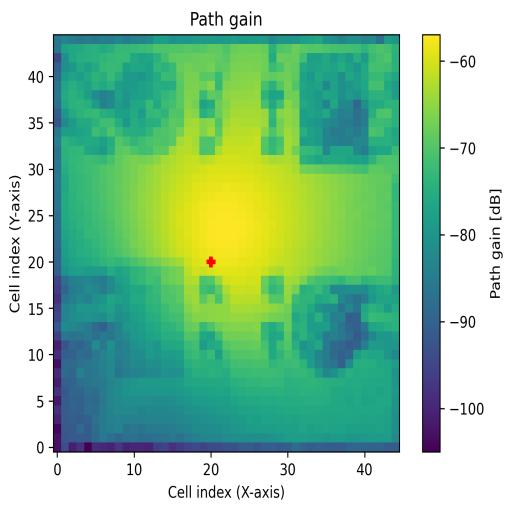Concrete: (300, 53, 369, 165)
Glass: (115, 51, 184, 156)
Metal: (291, 276, 369, 377)
Wood: (114, 258, 184, 378)
